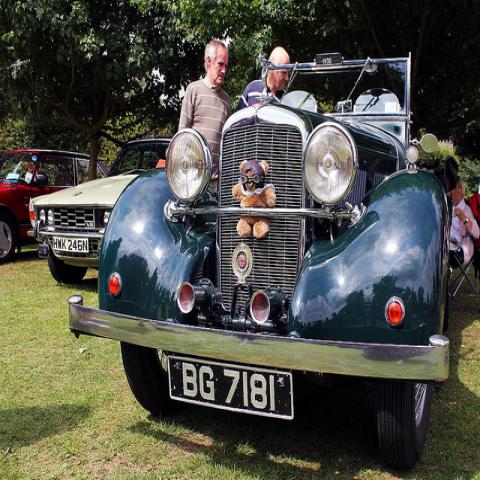car: (67, 54, 454, 467), (29, 136, 174, 287), (0, 149, 110, 267)
